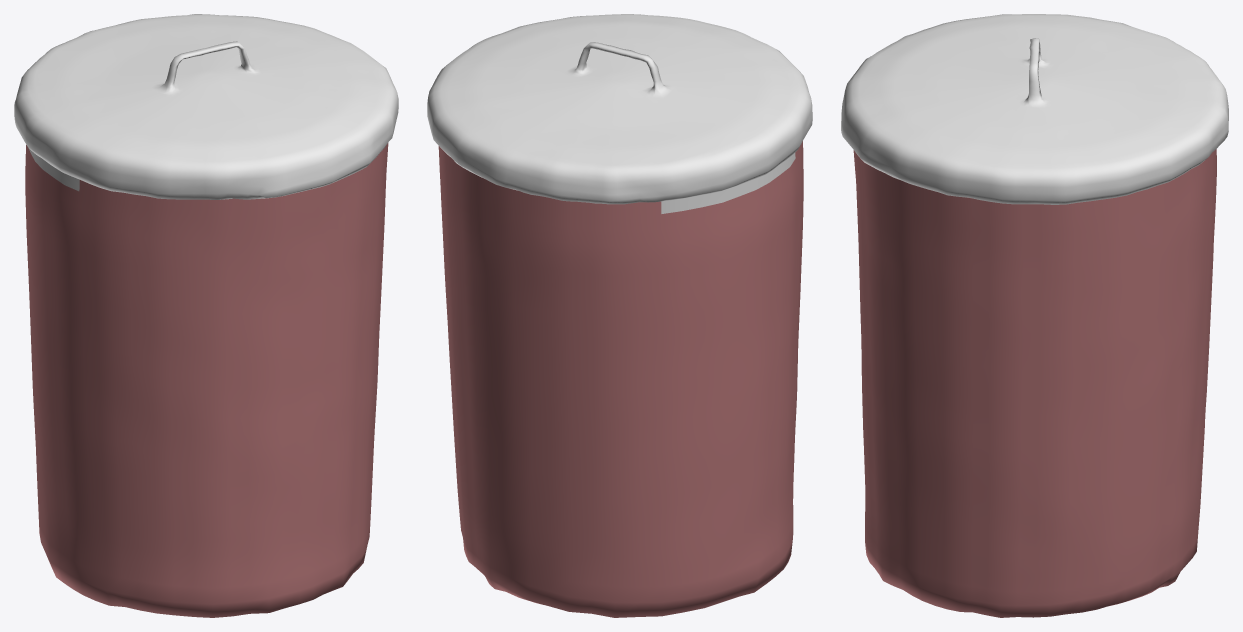
Rendered from binred.fbx.
3 renders of one model, left to right at view 1: azimuth 30°, elevation 25°; view 2: azimuth 150°, elevation 25°; view 3: azimuth 270°, elevation 25°, orthographic.
Visible parts, largest first — view 1: bin:Mesh; view 2: bin:Mesh; view 3: bin:Mesh.
Boxes of the visible parts, x1,y1,x2,y2 form: bin:Mesh: [14, 14, 398, 617]; bin:Mesh: [427, 14, 812, 617]; bin:Mesh: [841, 14, 1228, 617].
Bounding box in the file's own units: 50.44 × 73 × 51.
